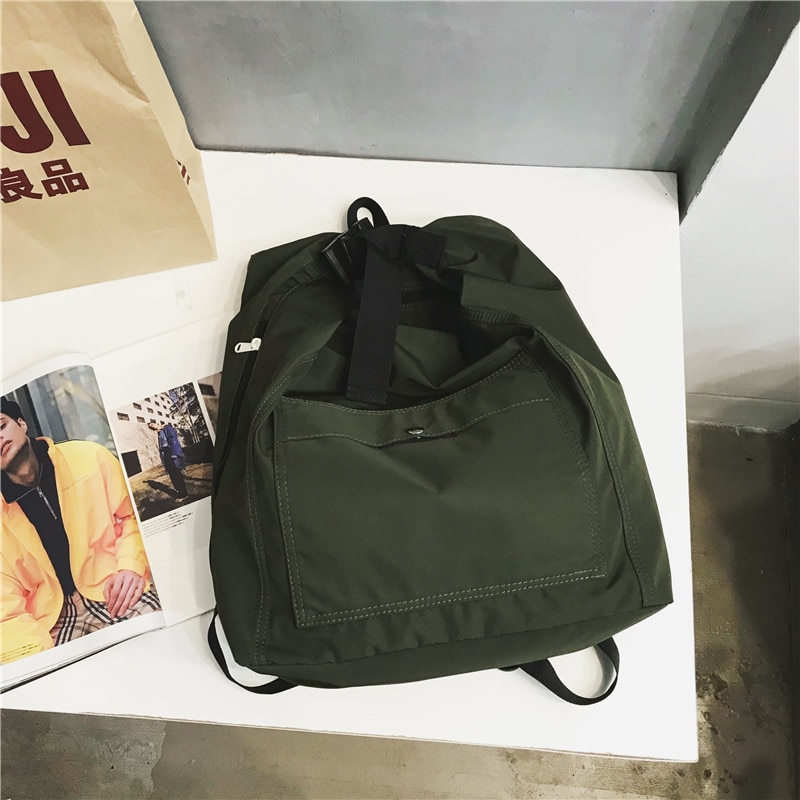Men's Backpacks: (204, 195, 675, 711)
